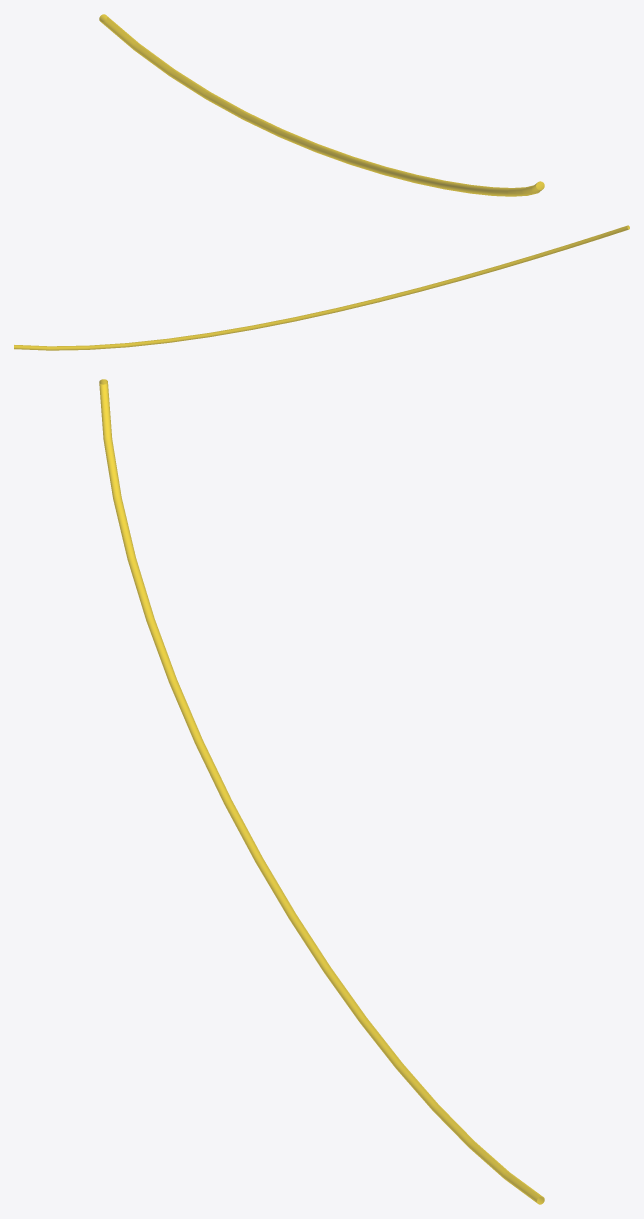
Rendered from Event_100608114_track_10.fbx.
The picture shows the model from 3 angles, top to bottom: view 1: azimuth 90°, elevation 25°; view 2: azimuth 150°, elevation 25°; view 3: azimuth 270°, elevation 25°; orthographic projection. The views are drawn at different scales.
Visible parts, largest first — view 1: Model; view 2: Model; view 3: Model.
Boxes of the visible parts, x1,y1,x2,y2 form: Model: [99, 14, 544, 196]; Model: [14, 225, 629, 350]; Model: [99, 379, 544, 1204].
Bounding box in the file's own units: 5.33 × 1.68 × 2.03.
